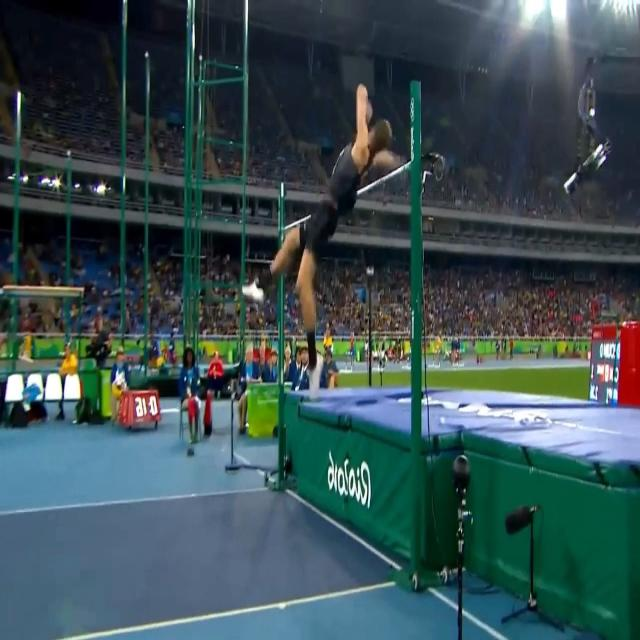jump: (241, 81, 407, 404)
